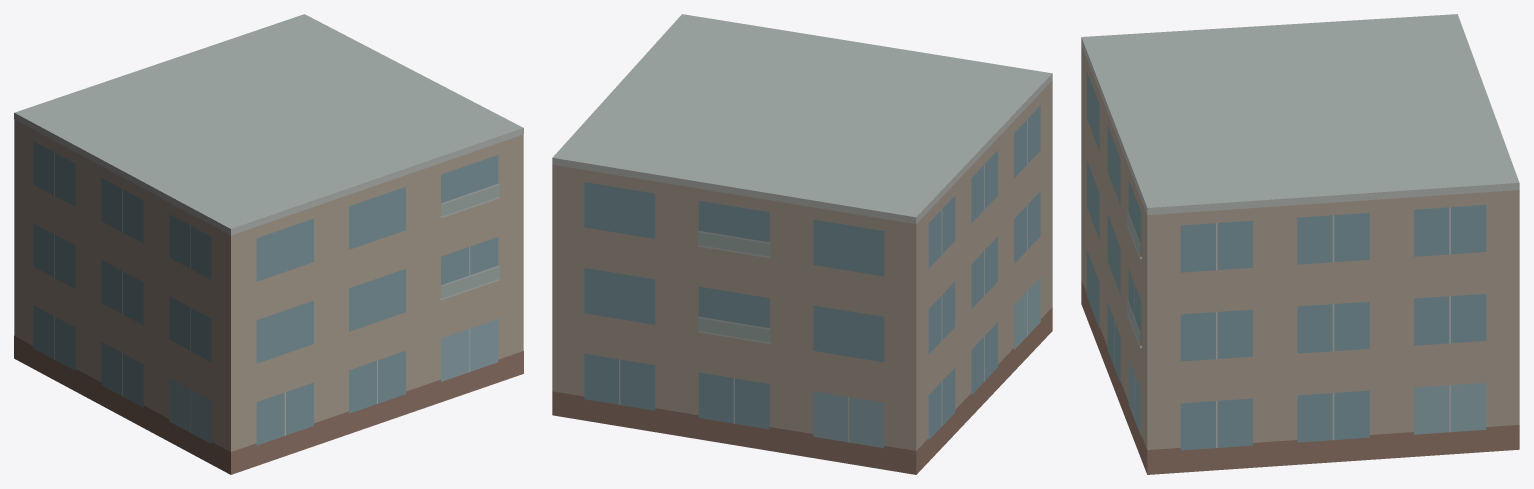
The model's file is survey-upis-33012979.glb.
3 renders of one model, left to right at view 1: azimuth 30°, elevation 25°; view 2: azimuth 150°, elevation 25°; view 3: azimuth 270°, elevation 25°, orthographic. The views are drawn at different scales.
Parts seen in each view (by area): view 1: survey-upis-33012979.tmp; view 2: survey-upis-33012979.tmp; view 3: survey-upis-33012979.tmp.
Part boxes in pixels (x1=…): survey-upis-33012979.tmp: x1=14, y1=14, x2=523, y2=474; survey-upis-33012979.tmp: x1=552, y1=14, x2=1052, y2=474; survey-upis-33012979.tmp: x1=1081, y1=14, x2=1519, y2=474.
Bounding box in the file's own units: 14.29 × 9.15 × 13.63.
